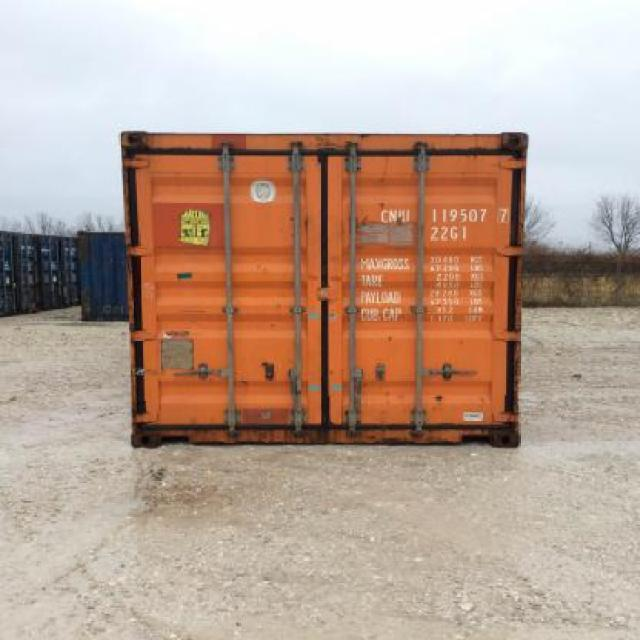ISO: (435, 226, 468, 241)
container_number: (378, 205, 506, 224)
